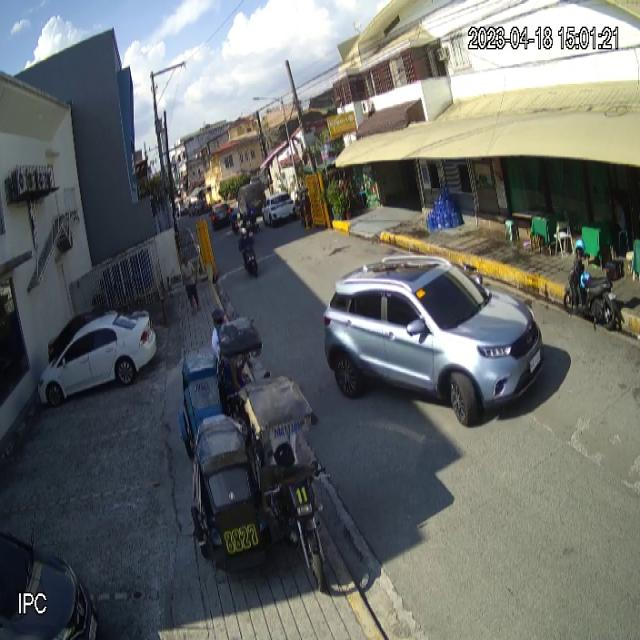Car: (322, 250, 545, 428), (36, 308, 158, 411)
Motorcycle: (564, 250, 624, 332)
Tricycle: (189, 373, 327, 594), (178, 316, 264, 461)
